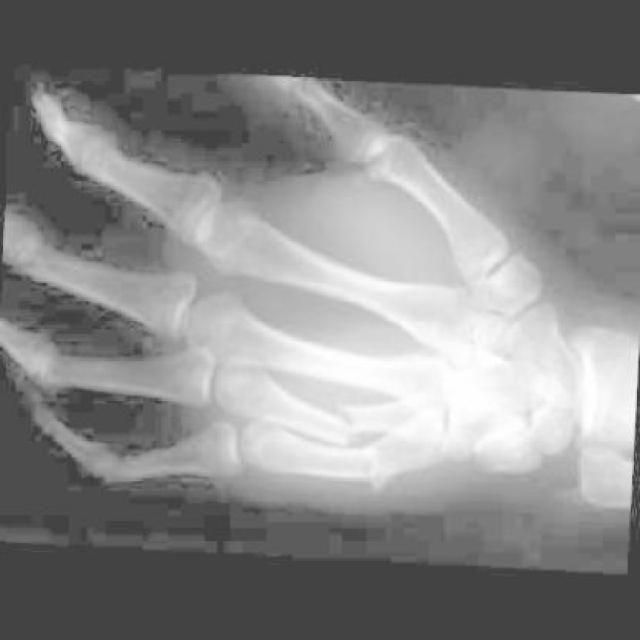Fracture: (340, 432, 400, 500), (312, 398, 369, 454)
